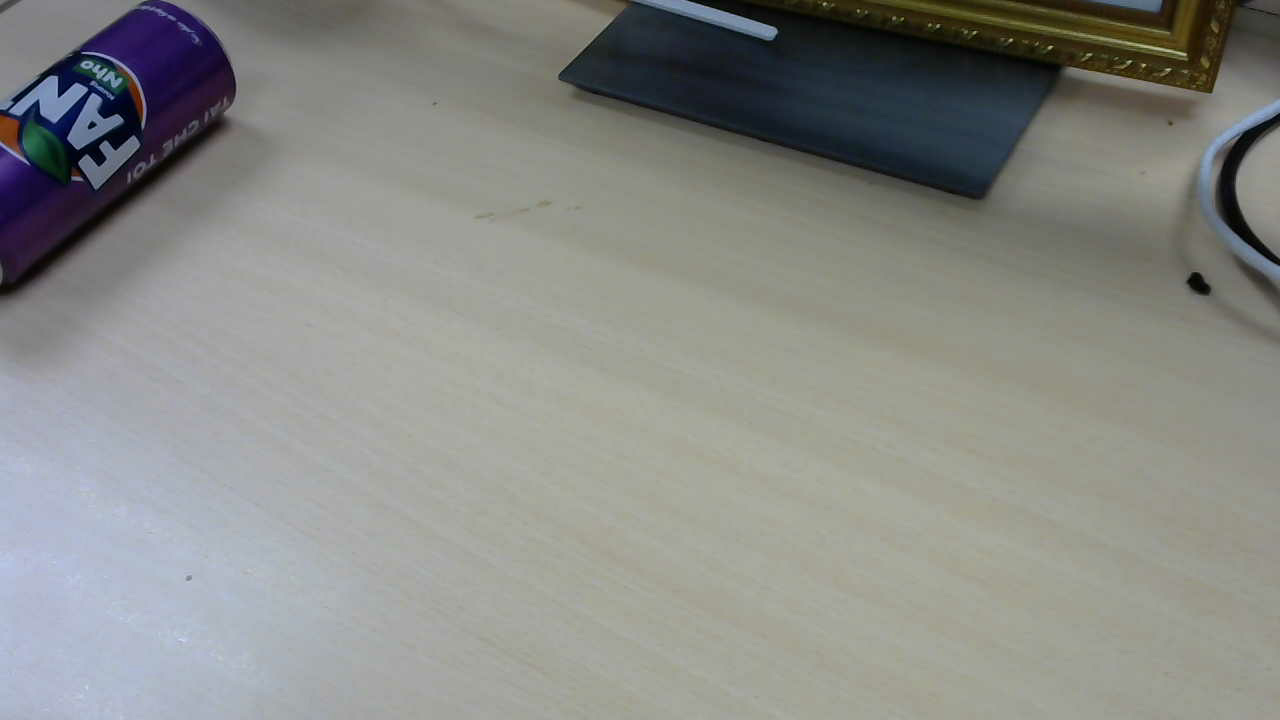Fanta: (5, 4, 243, 302)
